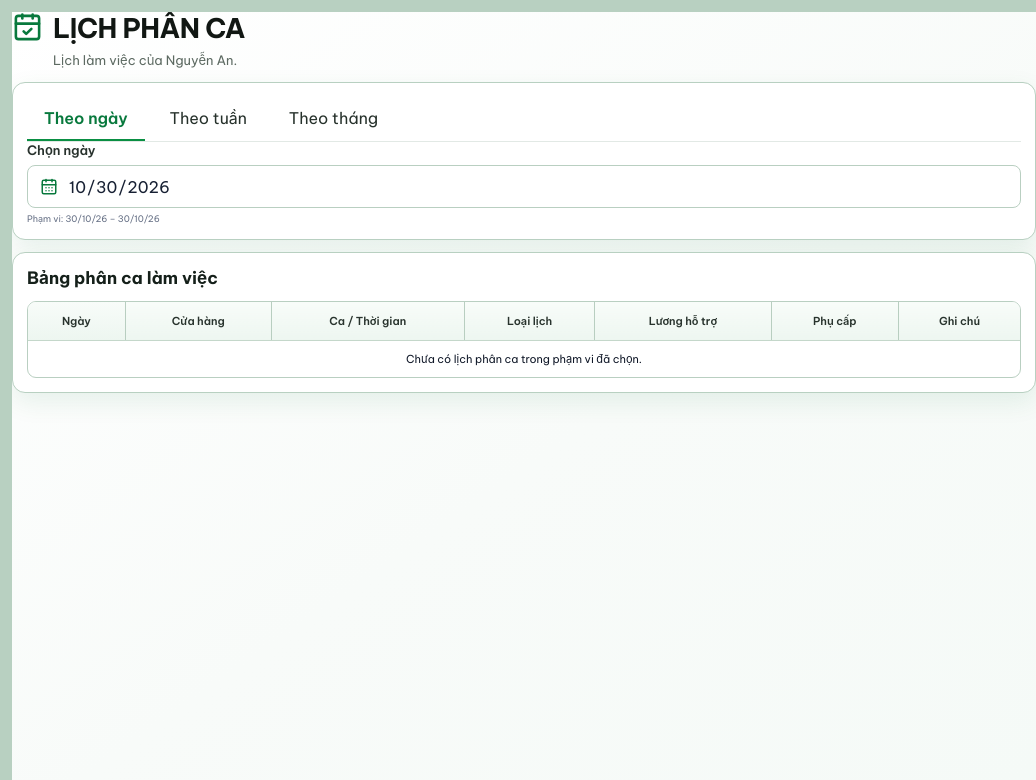
EmployeeSchedulePage › shows regular and support schedules with compensation in the selected month
Click the button "Theo tháng" at (334, 119), box x1=272 y1=97 x2=395 y2=141
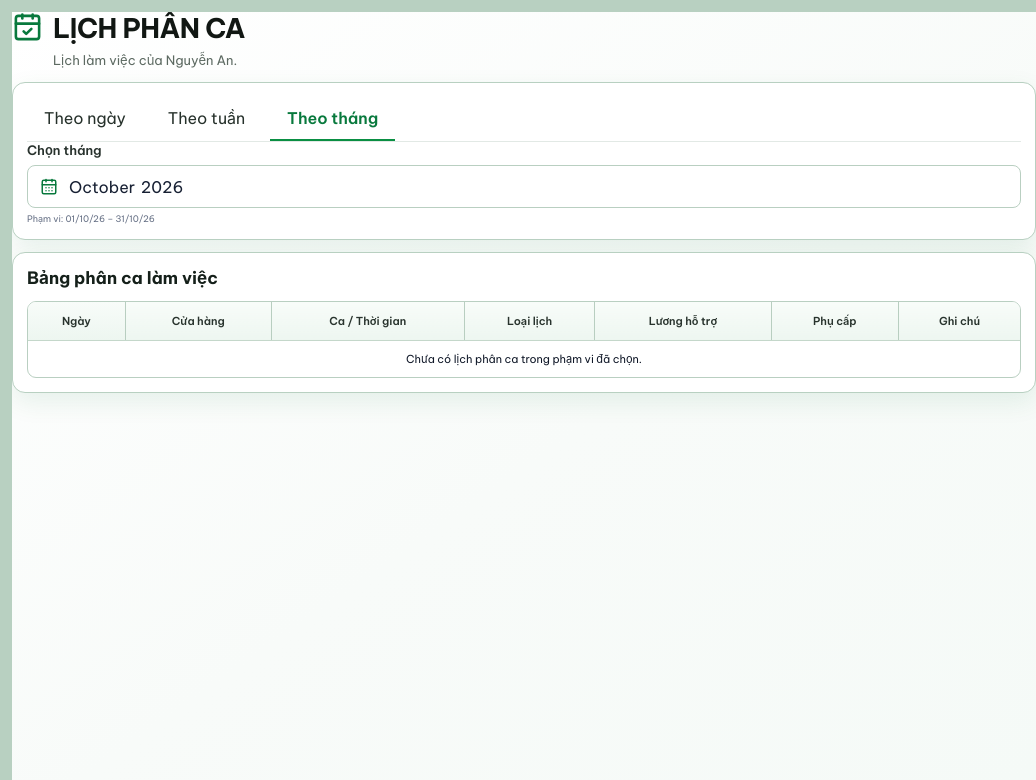
Replace the text in the field labelled "Chọn tháng" with "2026-08" at (538, 186), box x1=67 y1=166 x2=1008 y2=207
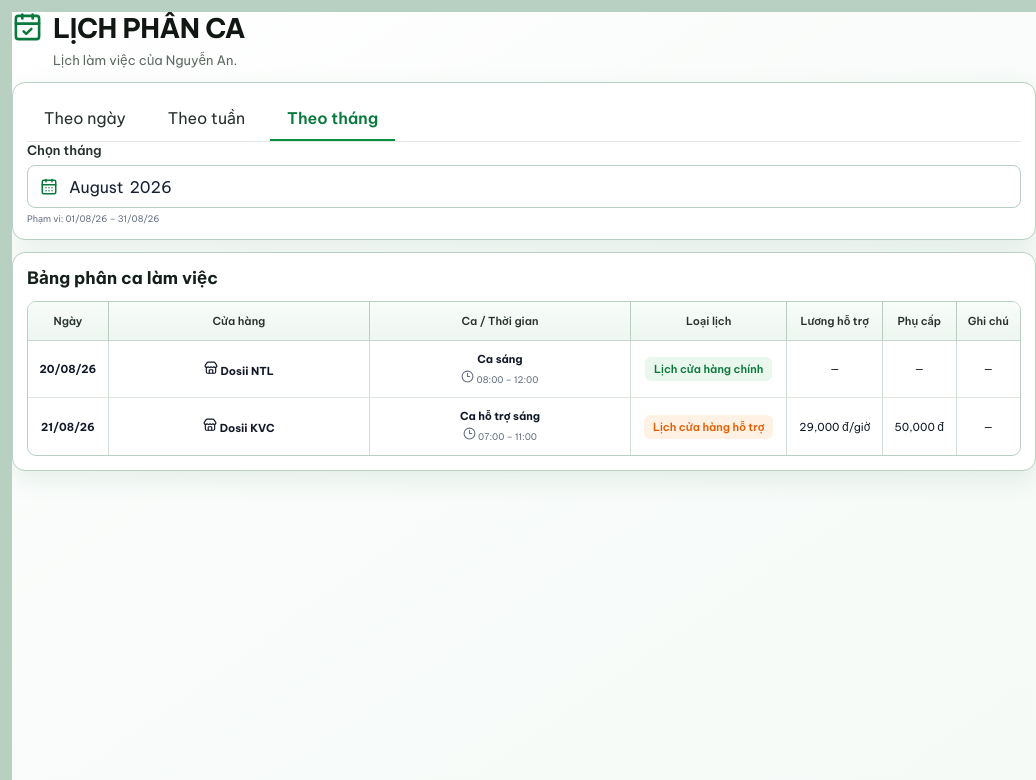
Expected: the text "Dosii NTL" is shown, x1=204 y1=361 x2=274 y2=378
Expected: the text "Dosii KVC" is shown, x1=203 y1=418 x2=275 y2=435
Expected: the text "29,000 đ/giờ" is shown, x1=787 y1=398 x2=883 y2=455
